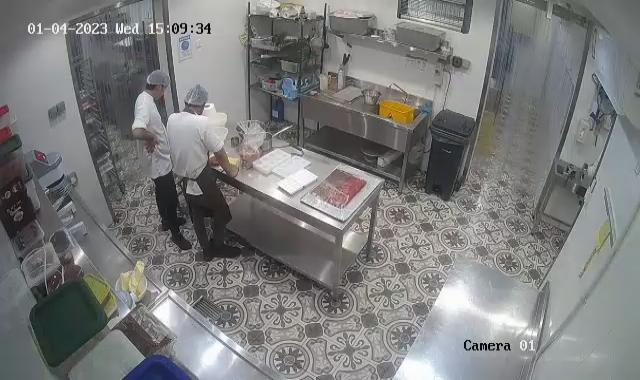hairnet: (184, 83, 210, 111), (145, 68, 170, 88)
